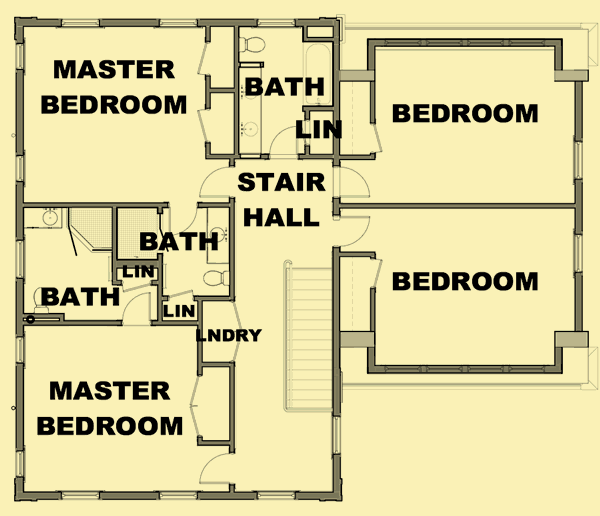bathroom has a shower room, small sink and large sink: (17, 201, 118, 326), (111, 208, 234, 302)
this bathroom has a dual sink, large sink with bathtub: (231, 18, 338, 159)
